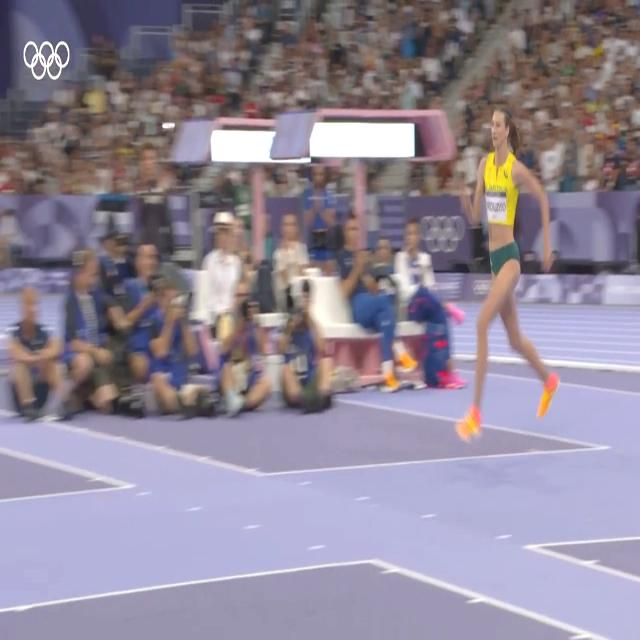run: (454, 100, 560, 444)
